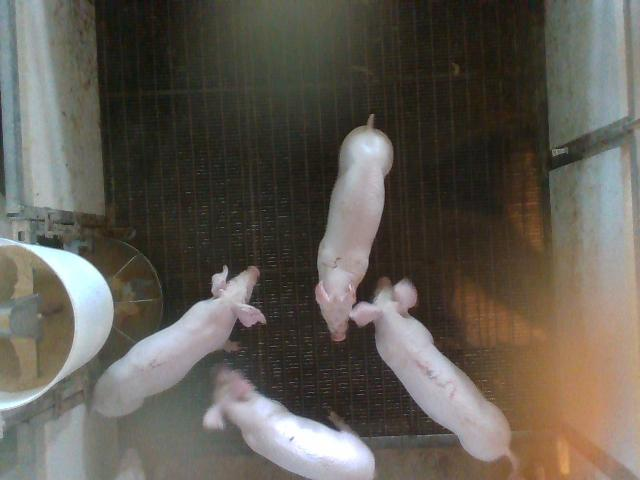pig-3: (350, 278, 516, 469)
